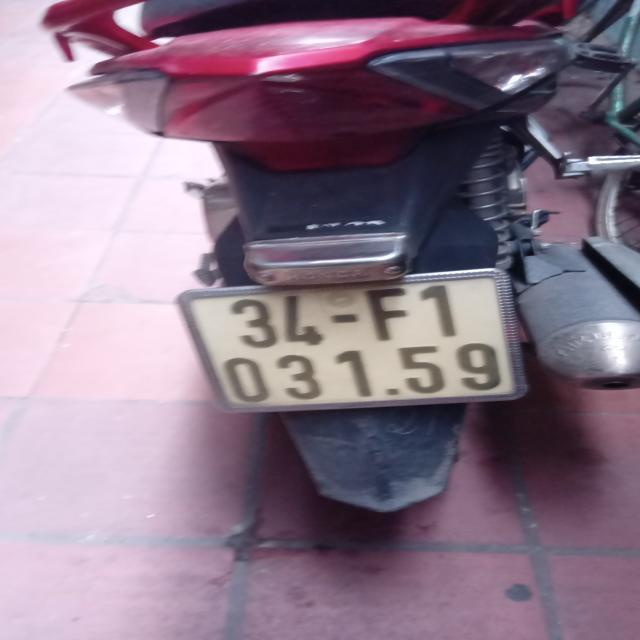license: (176, 266, 528, 414)
